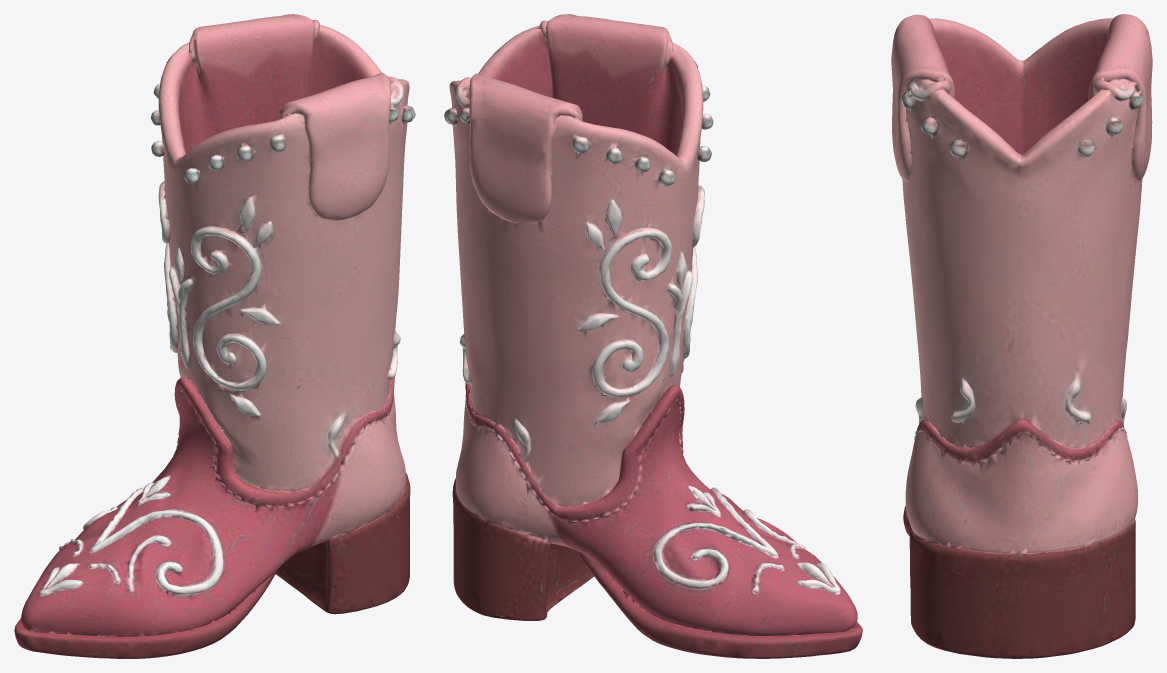
The picture shows the model from 3 angles, left to right: view 1: azimuth 30°, elevation 25°; view 2: azimuth 150°, elevation 25°; view 3: azimuth 270°, elevation 25°; orthographic projection. The views are drawn at different scales.
Size of the model in its own units: 1.47 by 1.9 by 0.7898.
Materials: 1 (1 with a texture image).
